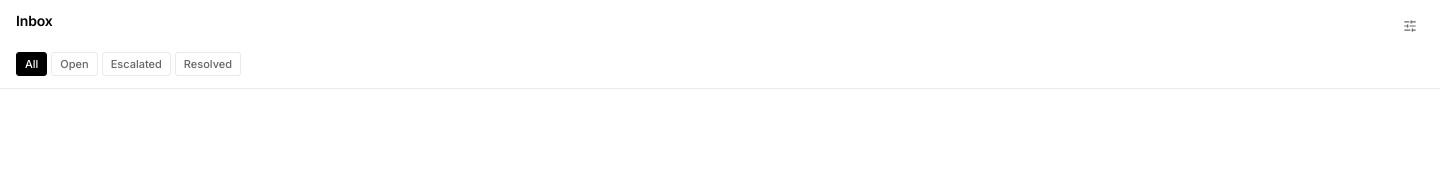
Scenario: InboxFilters (collapse behavior) › clicking the toggle expands the panel and shows the search input
Click the button named "show filters" at (1410,26), box [1396,12,1424,40]
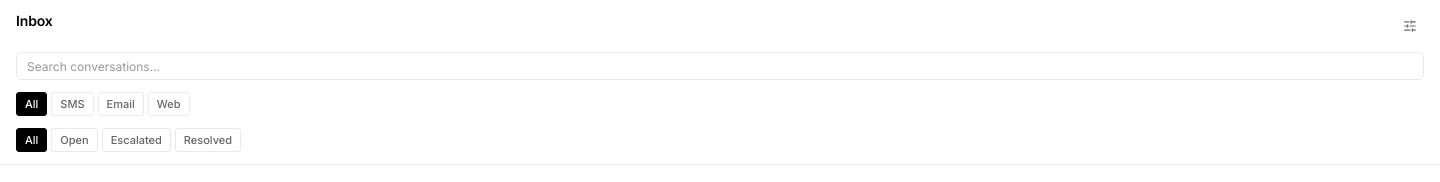
Result: the search field with placeholder "Search conversations…" is shown at [16,52,1424,80]
Result: the element with id "inbox-filters-panel" is shown at [0,52,1439,128]
